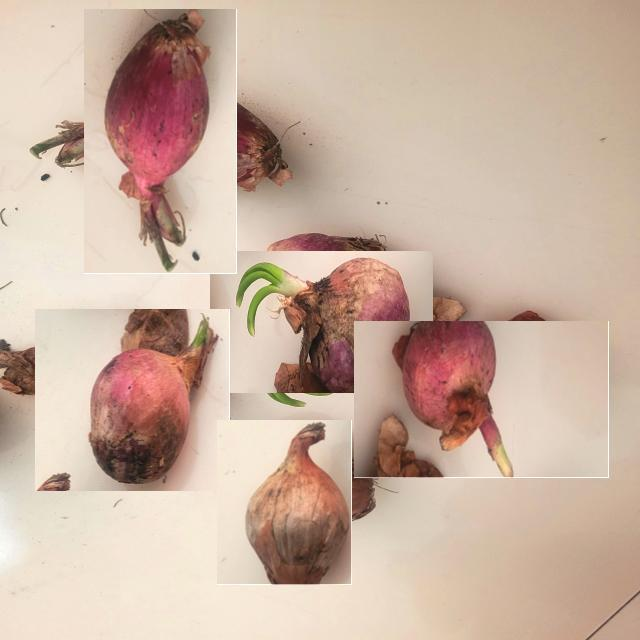healthy: (106, 11, 208, 270), (246, 423, 349, 583)
rotten: (90, 413, 178, 477)
sprouting: (236, 258, 409, 391), (393, 322, 512, 476)
